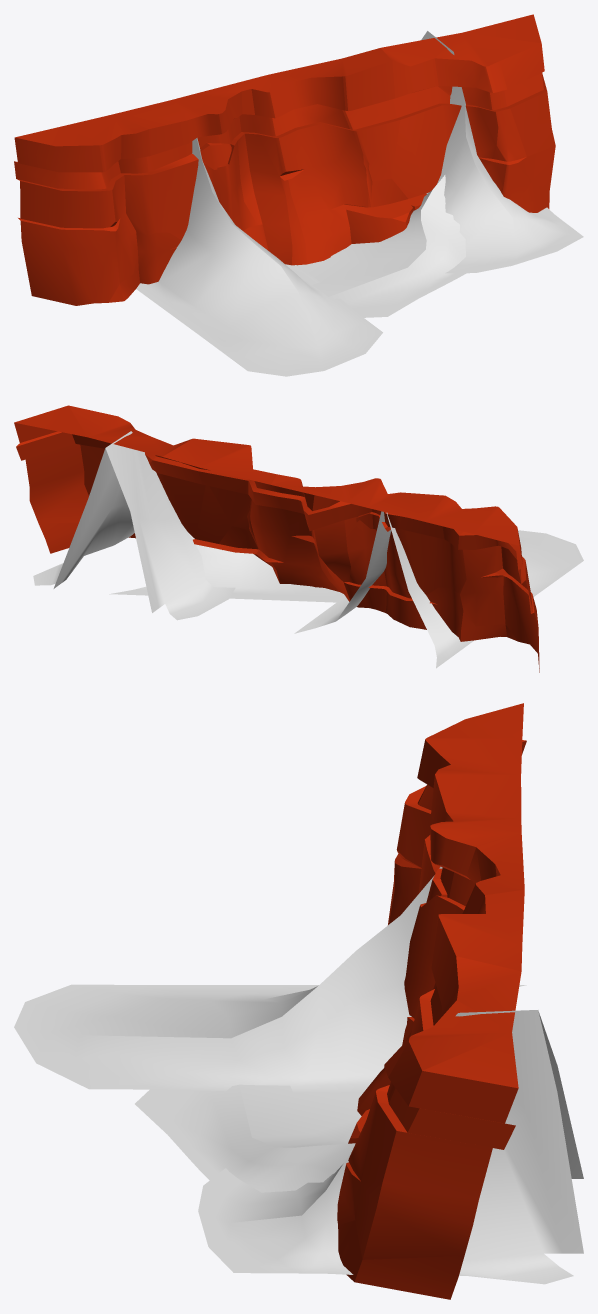
Rendered from SM_Mars_Cliff_01.fbx.
3 views of the same model, one above another, from view 1: azimuth 30°, elevation 25°; view 2: azimuth 150°, elevation 25°; view 3: azimuth 270°, elevation 25° (orthographic). The views are drawn at different scales.
Visible parts, largest first — view 1: Cliff_01, Sand_01, Sand_02, Sand_03; view 2: Cliff_01, Sand_03, Sand_01, Sand_02; view 3: Cliff_01, Sand_01, Sand_03, Sand_02.
Boxes of the visible parts, left/top/right/bottom form: Cliff_01: left=14, top=14, right=555, bottom=305; Sand_01: left=136, top=138, right=382, bottom=376; Sand_02: left=297, top=175, right=466, bottom=317; Sand_03: left=421, top=31, right=583, bottom=273; Cliff_01: left=14, top=405, right=539, bottom=672; Sand_03: left=33, top=431, right=235, bottom=620; Sand_01: left=294, top=511, right=583, bottom=668; Sand_02: left=109, top=532, right=344, bottom=602; Cliff_01: left=337, top=703, right=526, bottom=1299; Sand_01: left=14, top=866, right=526, bottom=1092; Sand_03: left=198, top=1010, right=583, bottom=1284; Sand_02: left=135, top=1084, right=363, bottom=1192.
Size of the model in its own units: 8884 by 2539 by 5528.
